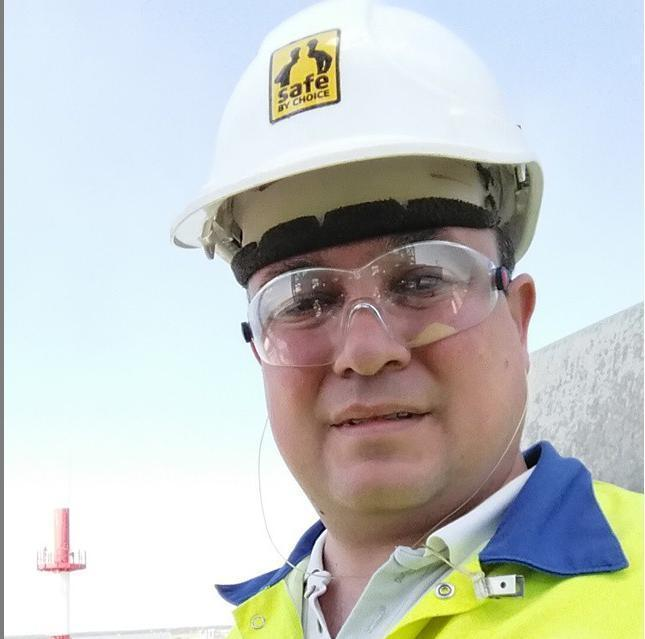helmet: (170, 0, 546, 273)
